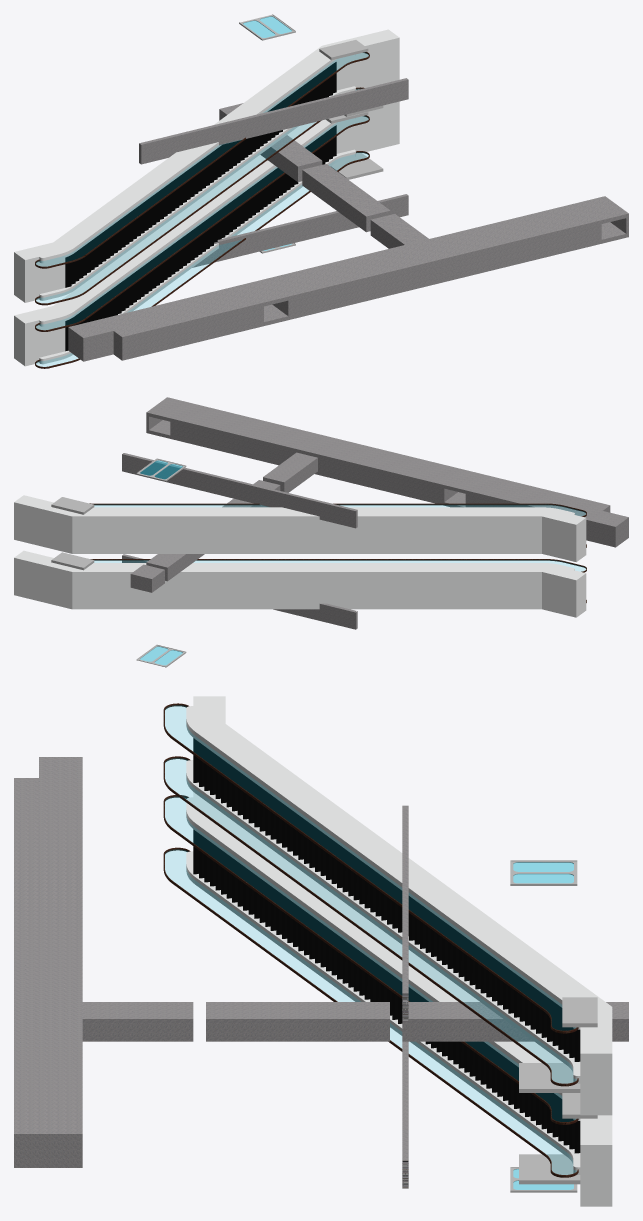
3 renders of one model, top to bottom at view 1: azimuth 30°, elevation 25°; view 2: azimuth 150°, elevation 25°; view 3: azimuth 270°, elevation 25°, orthographic. The views are drawn at different scales.
Parts seen in each view (by area): view 1: 0_3_1_1_2; view 2: 0_3_1_1_2; view 3: 0_3_1_1_2.
Part boxes in pixels (<box>): 0_3_1_1_2: <box>14,14,628,368</box>; 0_3_1_1_2: <box>14,397,628,667</box>; 0_3_1_1_2: <box>14,696,628,1206</box>.
Bounding box in the file's own units: 28.85 × 10.91 × 19.71.
Materials: 21 (9 with a texture image).
